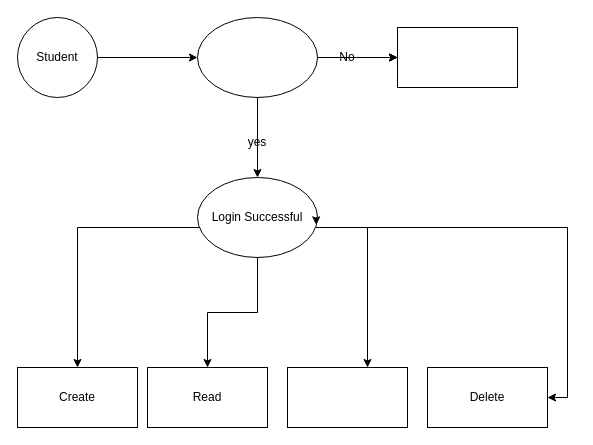
The diagram is 593 pixels wide and 445 high, and some of its shapes have lost their labels. Each missing label, with the centre of its shape:
"Incorrect Credentials" goes at (x=457, y=57).
"Login" goes at (x=257, y=57).
"Update" goes at (x=347, y=397).
